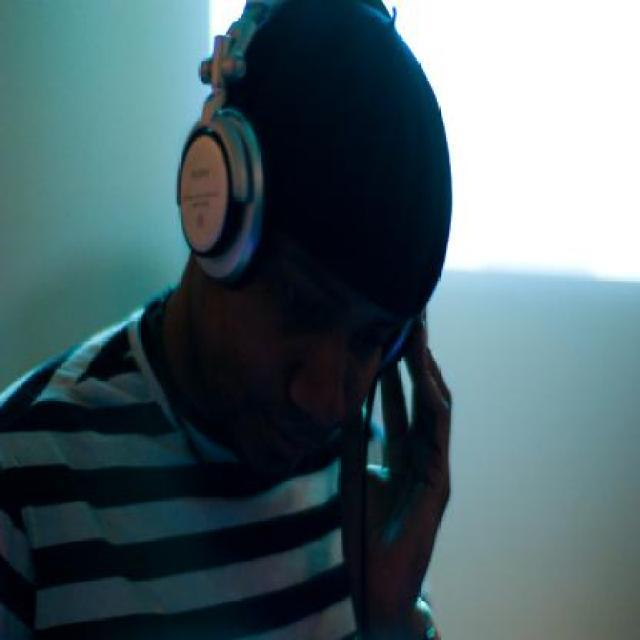earphone: (152, 13, 355, 282)
